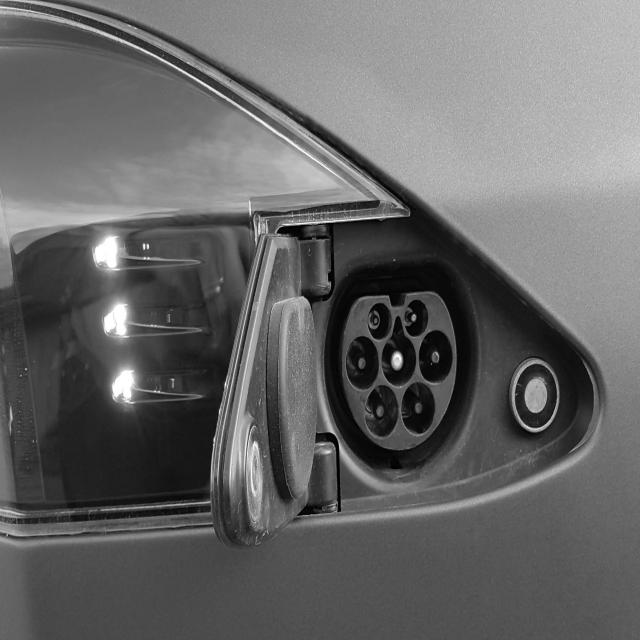Type 2: (332, 273, 469, 462)
